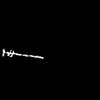treble_crochet: (3, 50, 42, 58)
